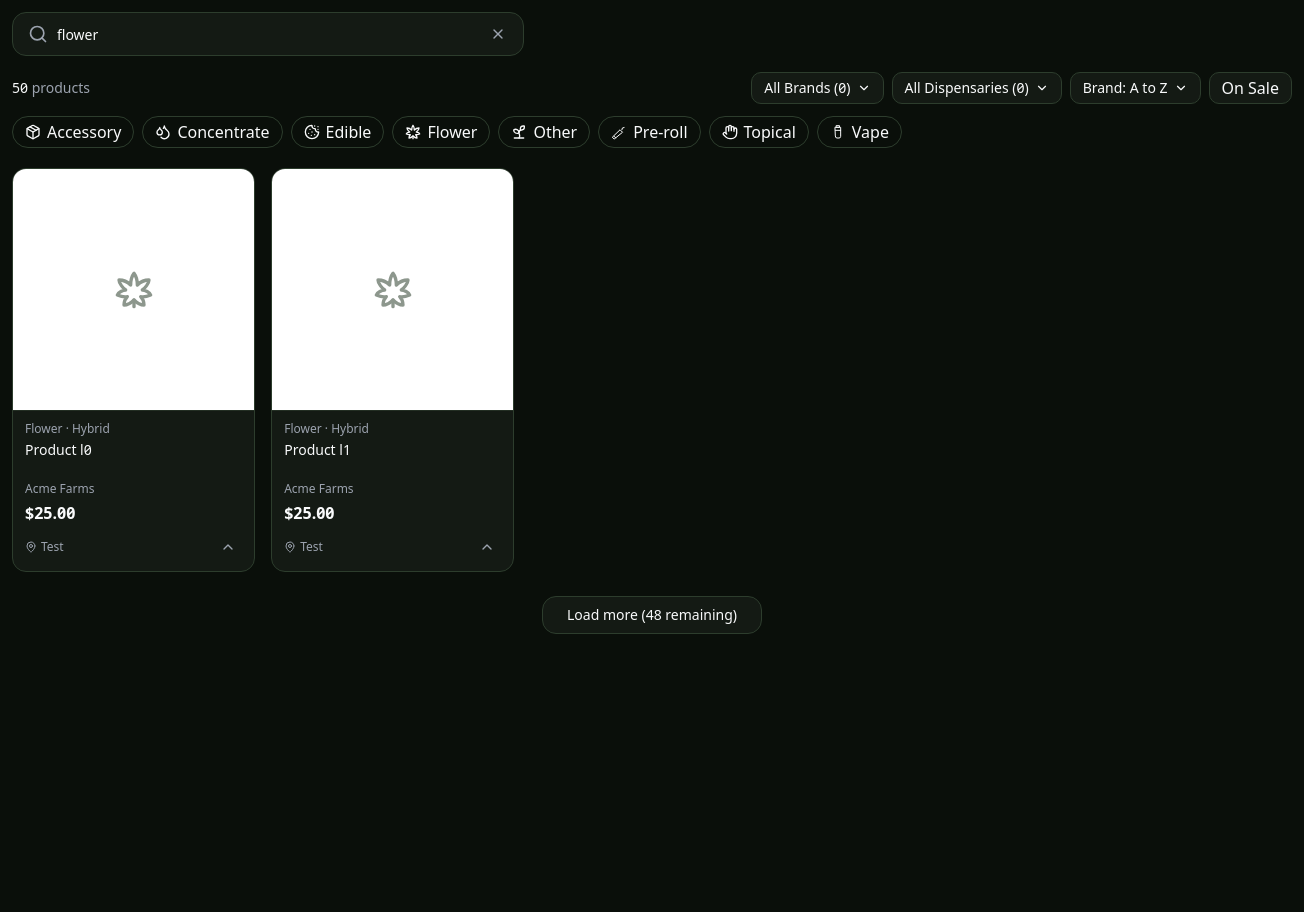
Test: SearchClient load more › appends the next page on success
Click the button "Load more (48 remaining)" at (652,615), box [542, 596, 762, 634]
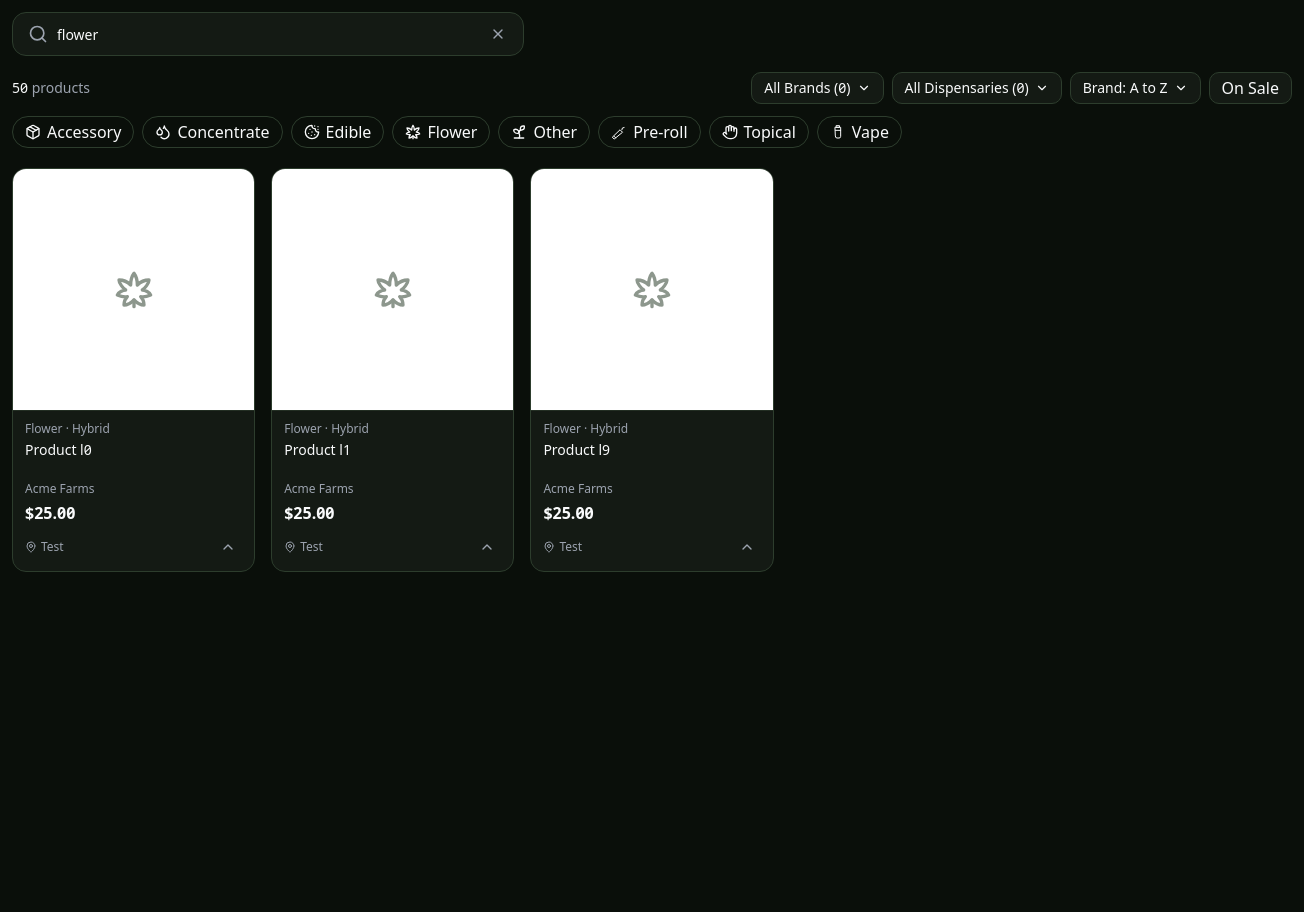
expect the heading "Product l9" is shown: met, box [543, 440, 610, 459]
